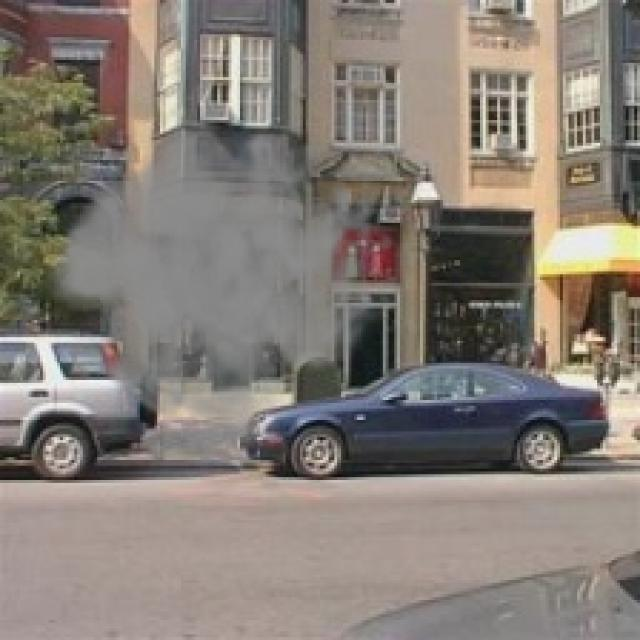Smoke: (46, 97, 397, 454)
